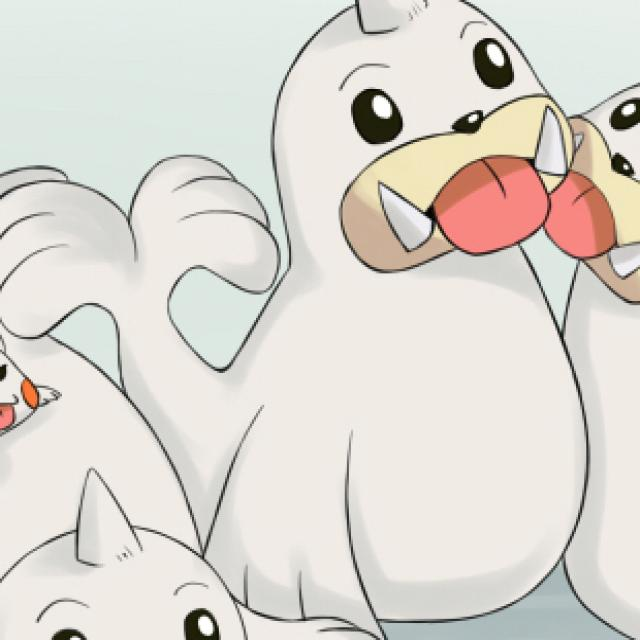Seel: (223, 2, 550, 594)
